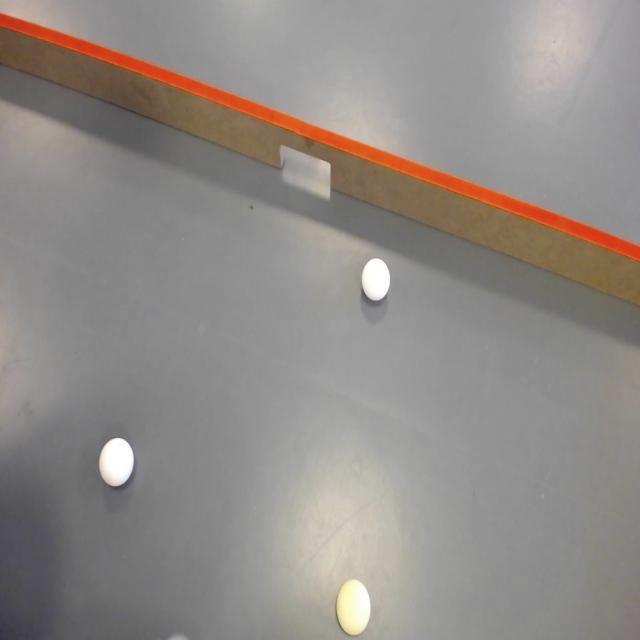white-golf-balls: (335, 579, 373, 638), (97, 438, 136, 487), (362, 256, 391, 299)
